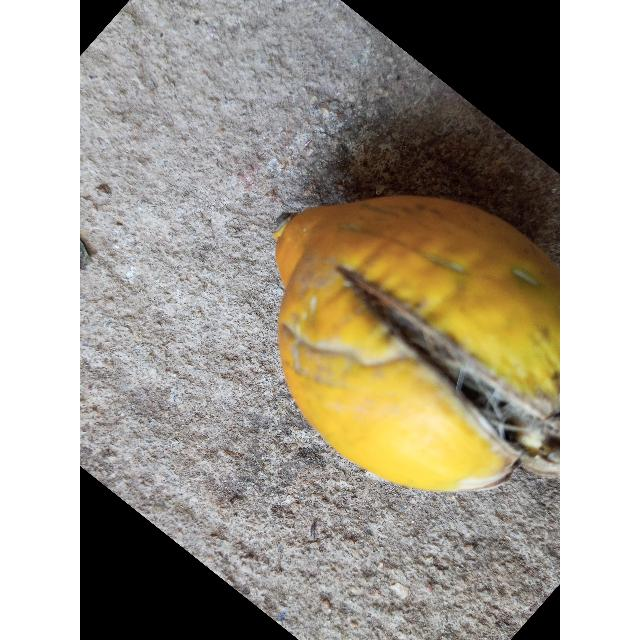damaged: (274, 196, 560, 495)
